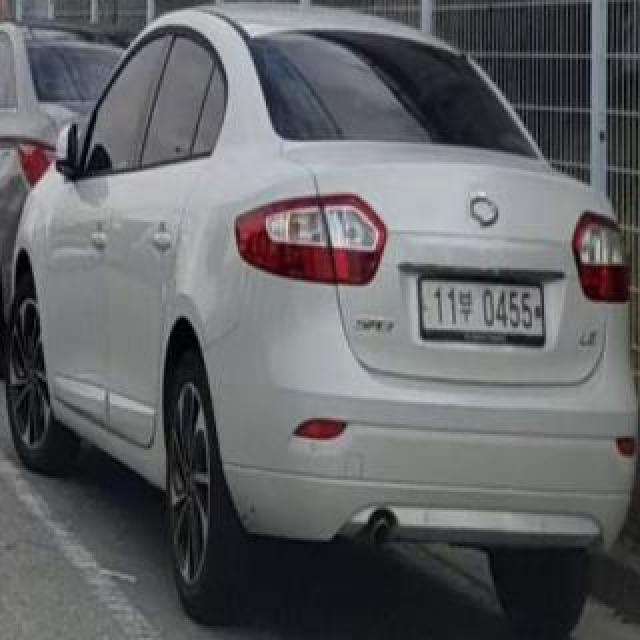car: (0, 0, 640, 640)
illegal_plate: (420, 271, 548, 351)
